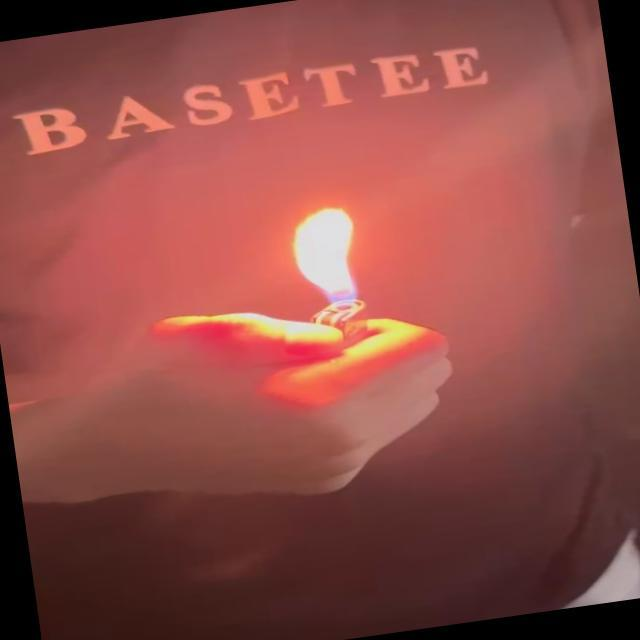Fire: (286, 204, 366, 316)
